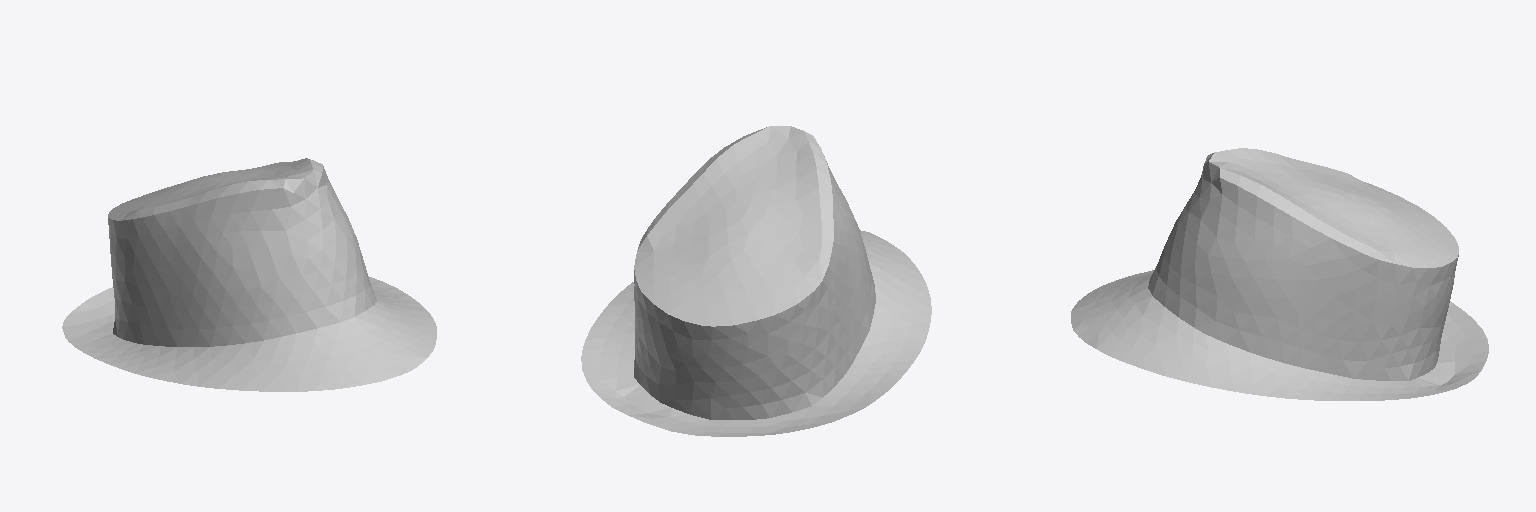
The model's file is agenthat2-579-rotated.obj.
The picture shows the model from 3 angles: view 1: azimuth 30°, elevation 25°; view 2: azimuth 150°, elevation 25°; view 3: azimuth 270°, elevation 25°; orthographic projection.
Visible parts, largest first — view 1: agenthat2-579; view 2: agenthat2-579; view 3: agenthat2-579.
Part boxes in pixels (left/top/right/bottom): agenthat2-579: left=62, top=158, right=436, bottom=391; agenthat2-579: left=581, top=126, right=931, bottom=436; agenthat2-579: left=1071, top=148, right=1488, bottom=400.
Size of the model in its own units: 56.53 by 37.52 by 70.07.